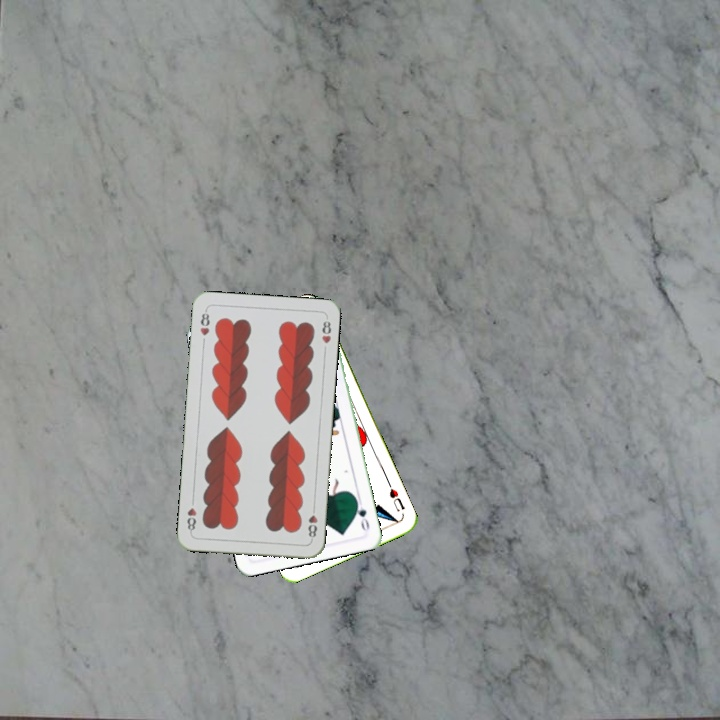GO: (352, 494, 372, 534)
H8: (304, 502, 320, 543), (196, 306, 212, 338)
HU: (384, 479, 407, 514)
